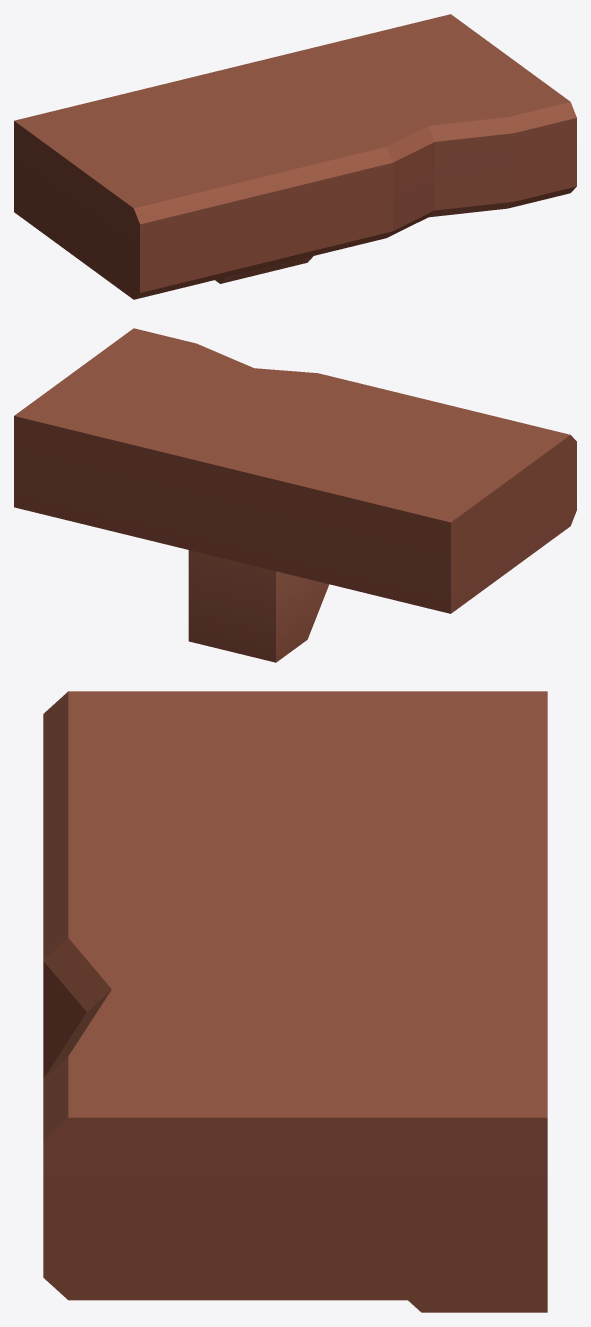
The model's file is shelf_small.obj.
3 renders of one model, top to bottom at view 1: azimuth 30°, elevation 25°; view 2: azimuth 150°, elevation 25°; view 3: azimuth 270°, elevation 25°, orthographic. The views are drawn at different scales.
Visible parts, largest first — view 1: shelf_small; view 2: shelf_small; view 3: shelf_small.
Boxes of the visible parts, <box> form: shelf_small: <box>14,14,576,299</box>; shelf_small: <box>14,328,576,662</box>; shelf_small: <box>43,691,547,1312</box>.
Bounding box in the file's own units: 1 × 0.4 × 0.5.
1 material, 1 textured.
